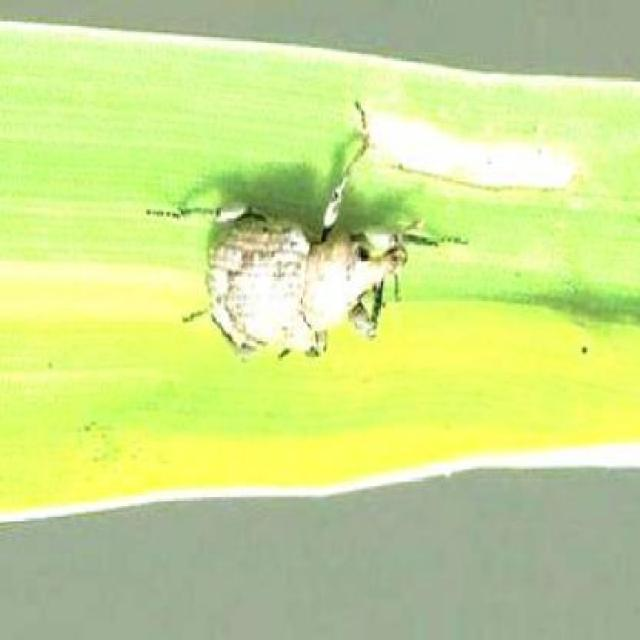rice-bug: (180, 133, 429, 372)
